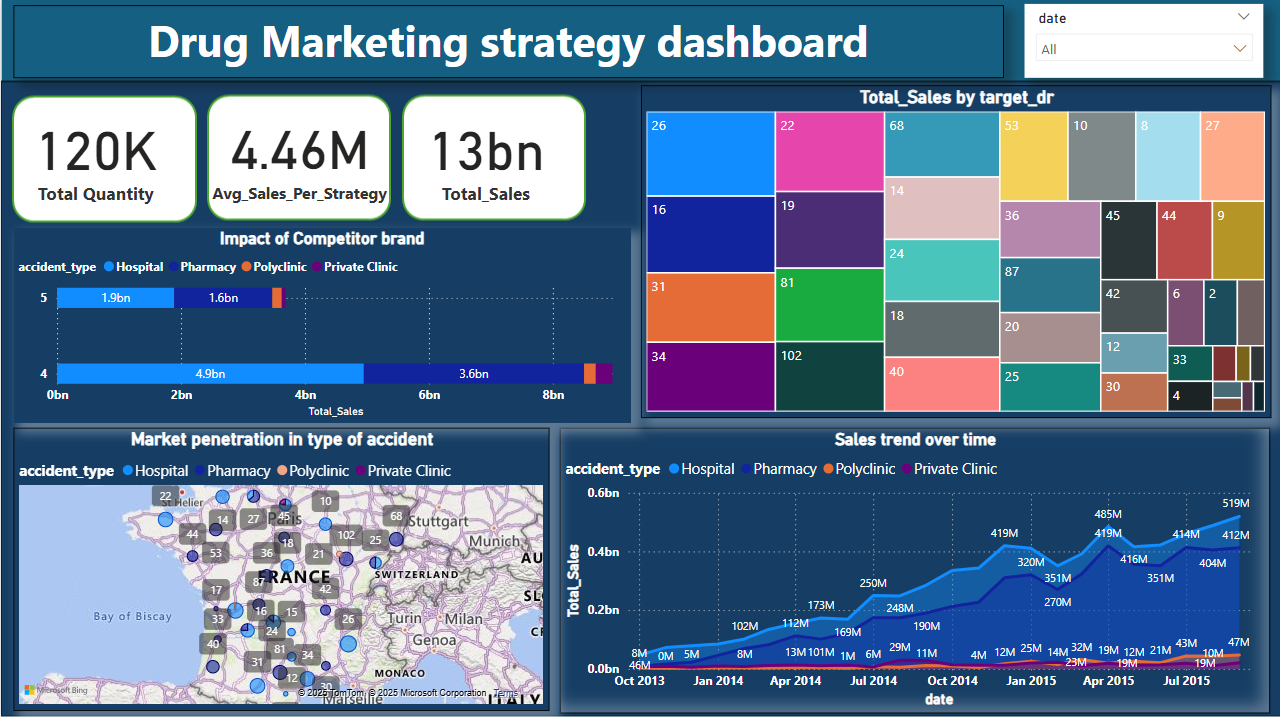

This screenshot's page, from the dashboard's own definition file:
{"tool":"powerbi","page":{"name":"Page 1","canvas":[1280,720],"ordinal":0},"visuals":[{"type":"areaChart","title":"Sales trend over time","fields":{"Category":["drug marketing cleaned.date"],"Y":["drug marketing cleaned.Total_Sales"],"Series":["drug marketing cleaned.accident_type"]},"box":[558.6,428.6,710,285.7],"z":0},{"type":"barChart","title":"Impact of Competitor brand","fields":{"Category":["drug marketing cleaned.competitor_brand"],"Y":["drug marketing cleaned.Total_Sales"],"Series":["drug marketing cleaned.account_type"]},"box":[12.5,228.8,617.5,195],"z":1000},{"type":"treemap","fields":{"Group":["drug marketing cleaned.target_dr"],"Values":["drug marketing cleaned.Total_Sales"]},"box":[640,86.2,630,332.5],"z":2000},{"type":"card","fields":{"Values":["drug marketing cleaned.Total_Sales"]},"box":[390,91.2,190,130],"z":3000},{"type":"card","fields":{"Values":["drug marketing cleaned.Total Quantity"]},"box":[0,91.2,190,130],"z":4000},{"type":"card","fields":{"Values":["drug marketing cleaned.Avg_Sales_Per_Strategy"]},"box":[203.8,90,190,130],"z":5000},{"type":"slicer","fields":{"Values":["drug marketing cleaned.date"]},"box":[1023.8,5,238.8,73.8],"z":6000},{"type":"map","title":"Market penetration in type of accident","fields":{"Category":["drug marketing cleaned.target_dr"],"Size":["drug marketing cleaned.Total_Sales"],"Series":["drug marketing cleaned.accident_type"]},"box":[12.9,428.6,535.7,282.9],"z":7000},{"type":"textbox","box":[12.9,5.7,990,72.9],"z":8000}]}

Visuals, with their boxes in screenshot pixels (x1, y1, x2, y2), scaled from the page's 1280x720 canvas onto the 1280x717 screenshot:
"Sales trend over time" areaChart: region(559, 427, 1269, 711)
"Impact of Competitor brand" barChart: region(12, 228, 630, 422)
treemap - drug marketing cleaned.target_dr x drug marketing cleaned.Total_Sales: region(640, 86, 1270, 417)
card - drug marketing cleaned.Total_Sales: region(390, 91, 580, 220)
card - drug marketing cleaned.Total Quantity: region(0, 91, 190, 220)
card - drug marketing cleaned.Avg_Sales_Per_Strategy: region(204, 90, 394, 219)
slicer - drug marketing cleaned.date: region(1024, 5, 1263, 78)
"Market penetration in type of accident" map: region(13, 427, 549, 709)
textbox: region(13, 6, 1003, 78)
